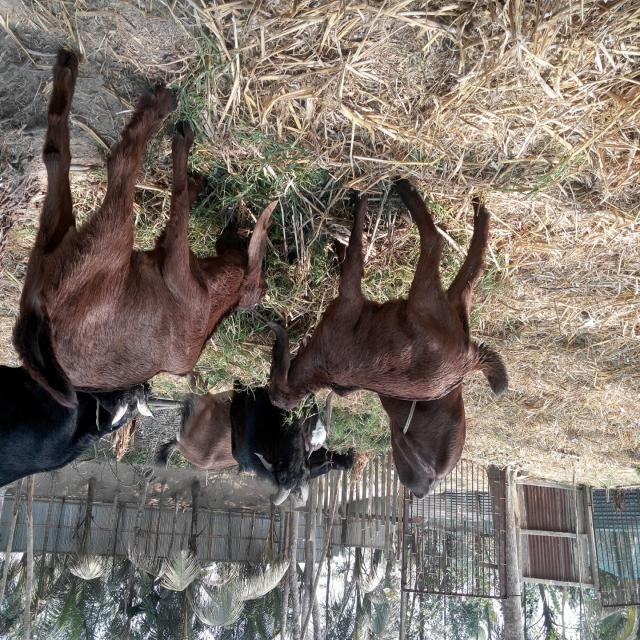Goat: (10, 51, 280, 410), (265, 178, 508, 418), (153, 374, 333, 508), (0, 364, 155, 489)
